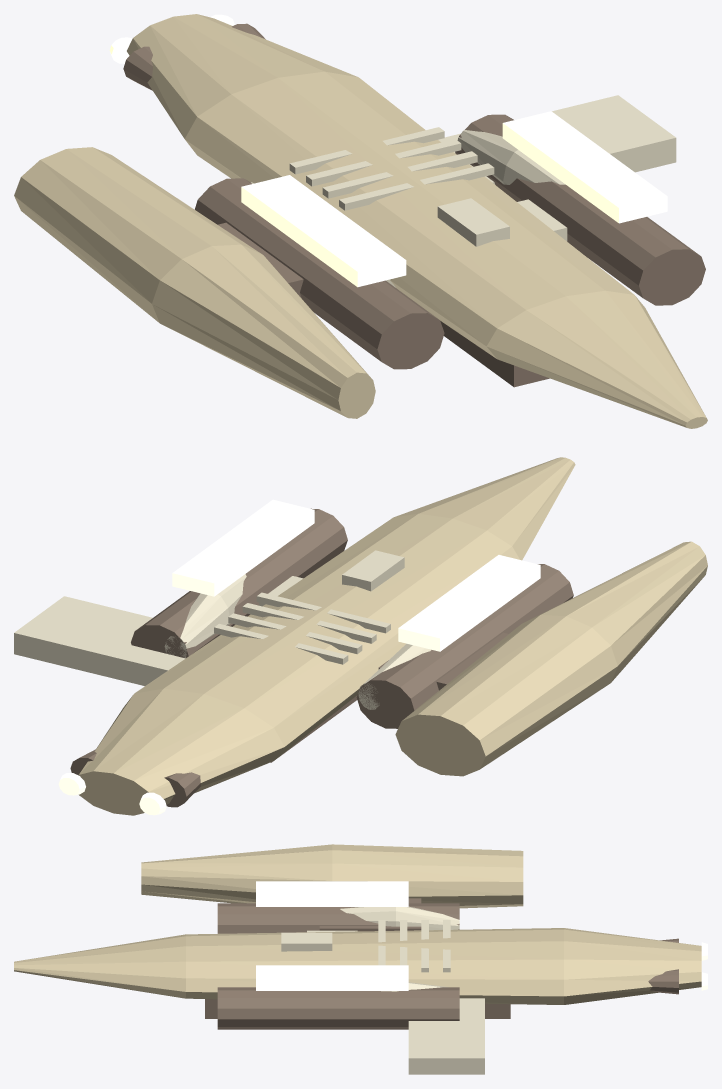
3 views of the same model, one above another, from view 1: azimuth 30°, elevation 25°; view 2: azimuth 150°, elevation 25°; view 3: azimuth 270°, elevation 25° (orthographic). The views are drawn at different scales.
Bounding box in the file's own units: 7.43 × 1.47 × 11.66.
